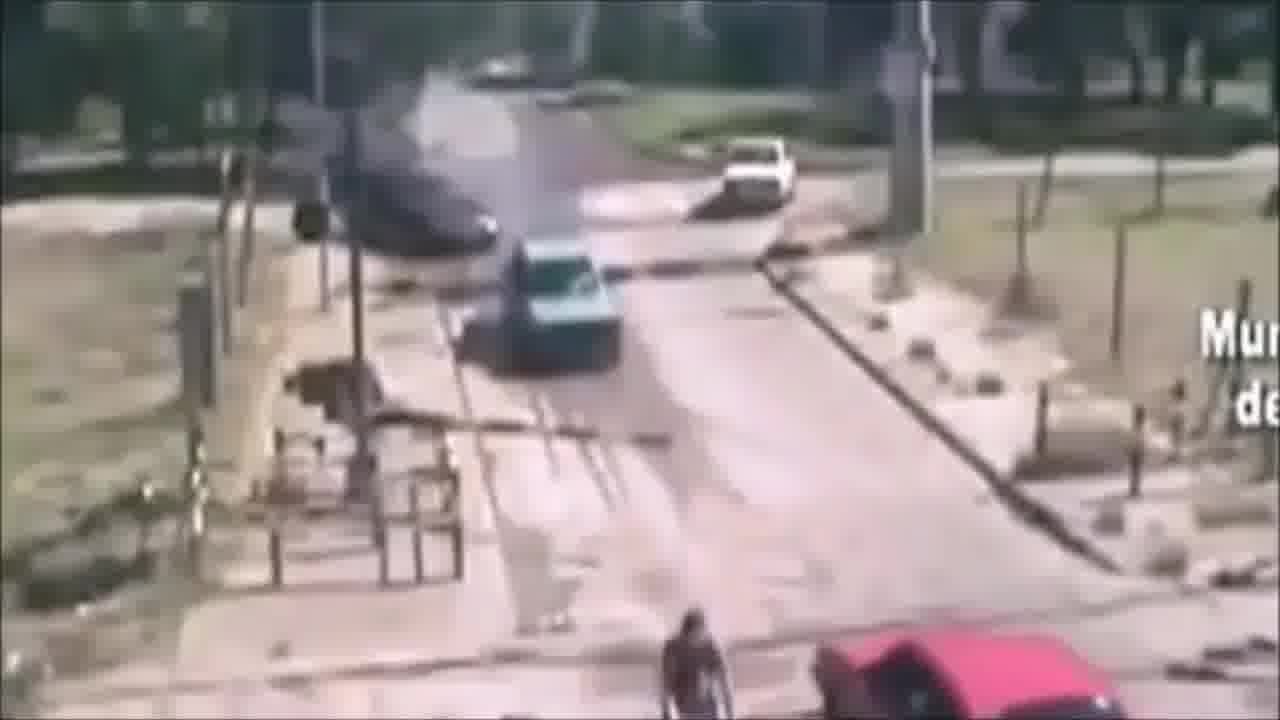crossing railway track: (785, 589, 1207, 720), (622, 587, 789, 720)
